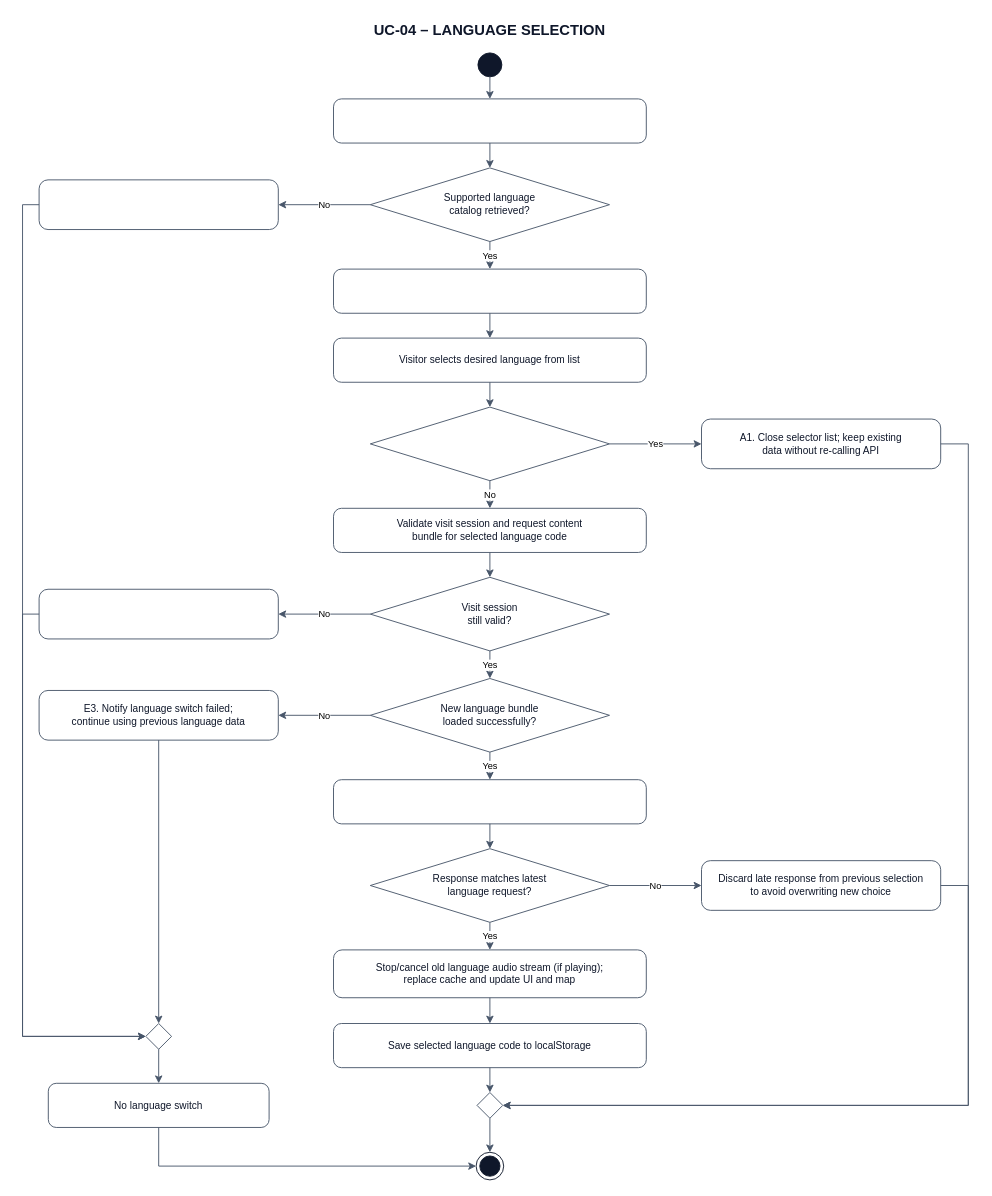
Some shapes in this 992 by 1196 pixel diagram are drawn without their labels. The shapes that lost their labels are listed below. From the top down, each one's box as (x1, y1, x2, y2) in pixels, then its label:
(333, 98, 646, 143): Visitor taps language selector icon at top-right corner of screen
(38, 179, 278, 230): E1. Notify empty language catalog; keep current default language
(333, 268, 646, 313): Display list of active languages
(369, 406, 610, 481): Same as currently active language?
(38, 588, 278, 639): E2. Reject new bundle load; redirect visitor to ticket expiration notice page
(333, 779, 646, 824): Record access in BUNDLE_ACCESS_LOGS and receive new bundle in browser
